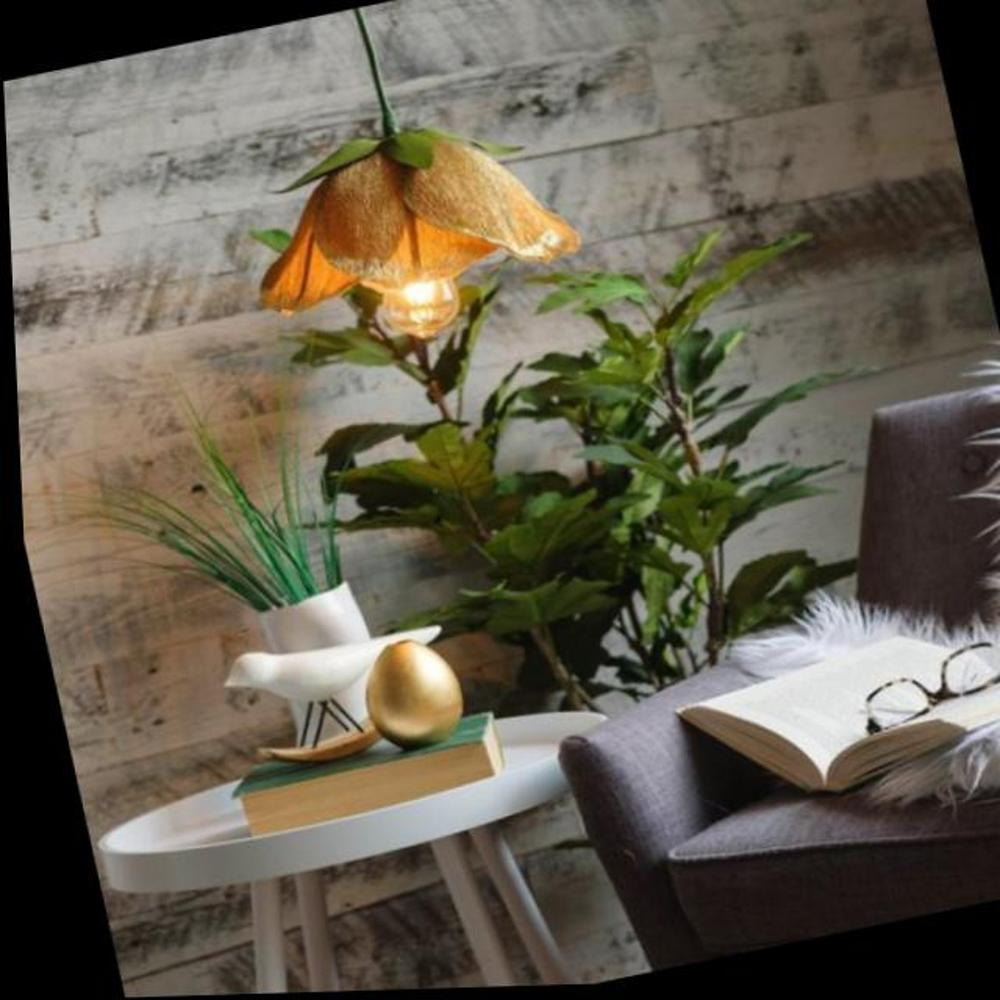shelf: (226, 24, 624, 483)
